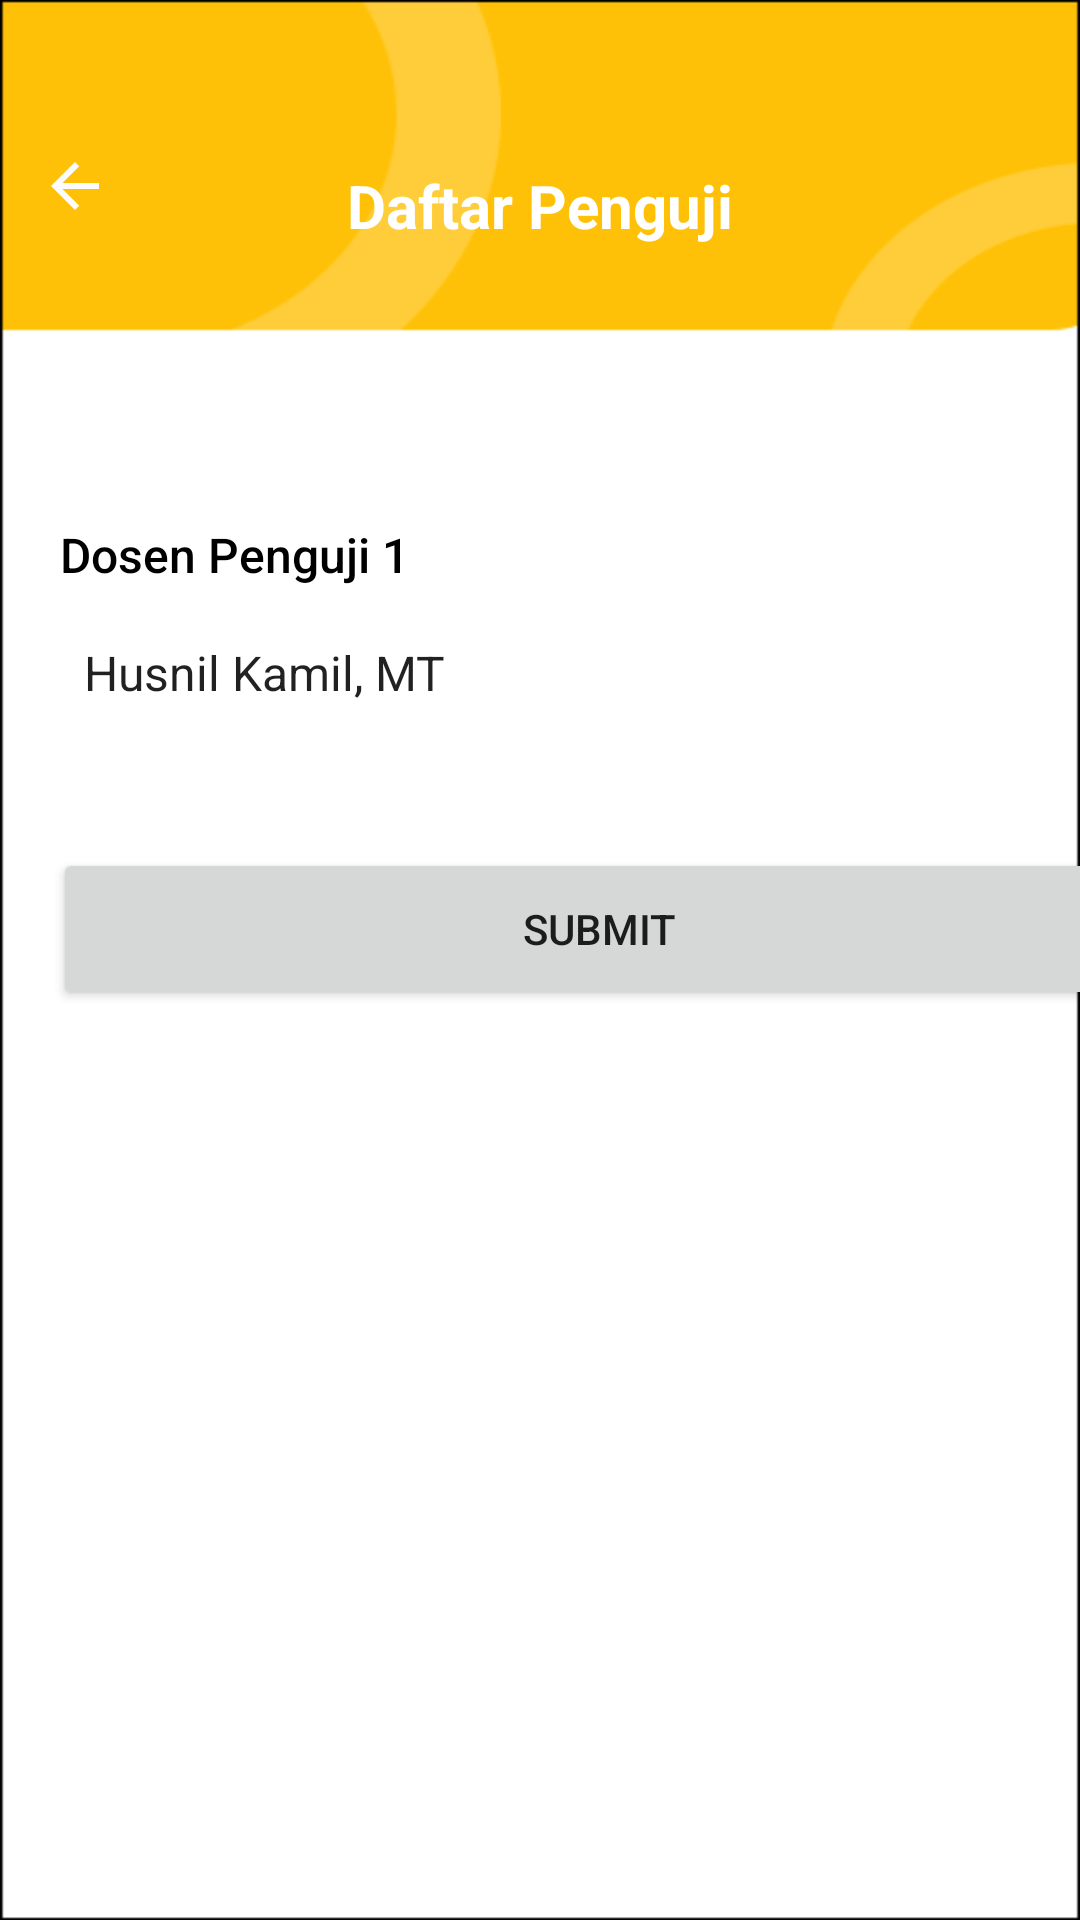

Screen size 1080px x 1920px. Icon name, then its center in pixels as (x=x, y=y):
arrow left: (x=75, y=186)
